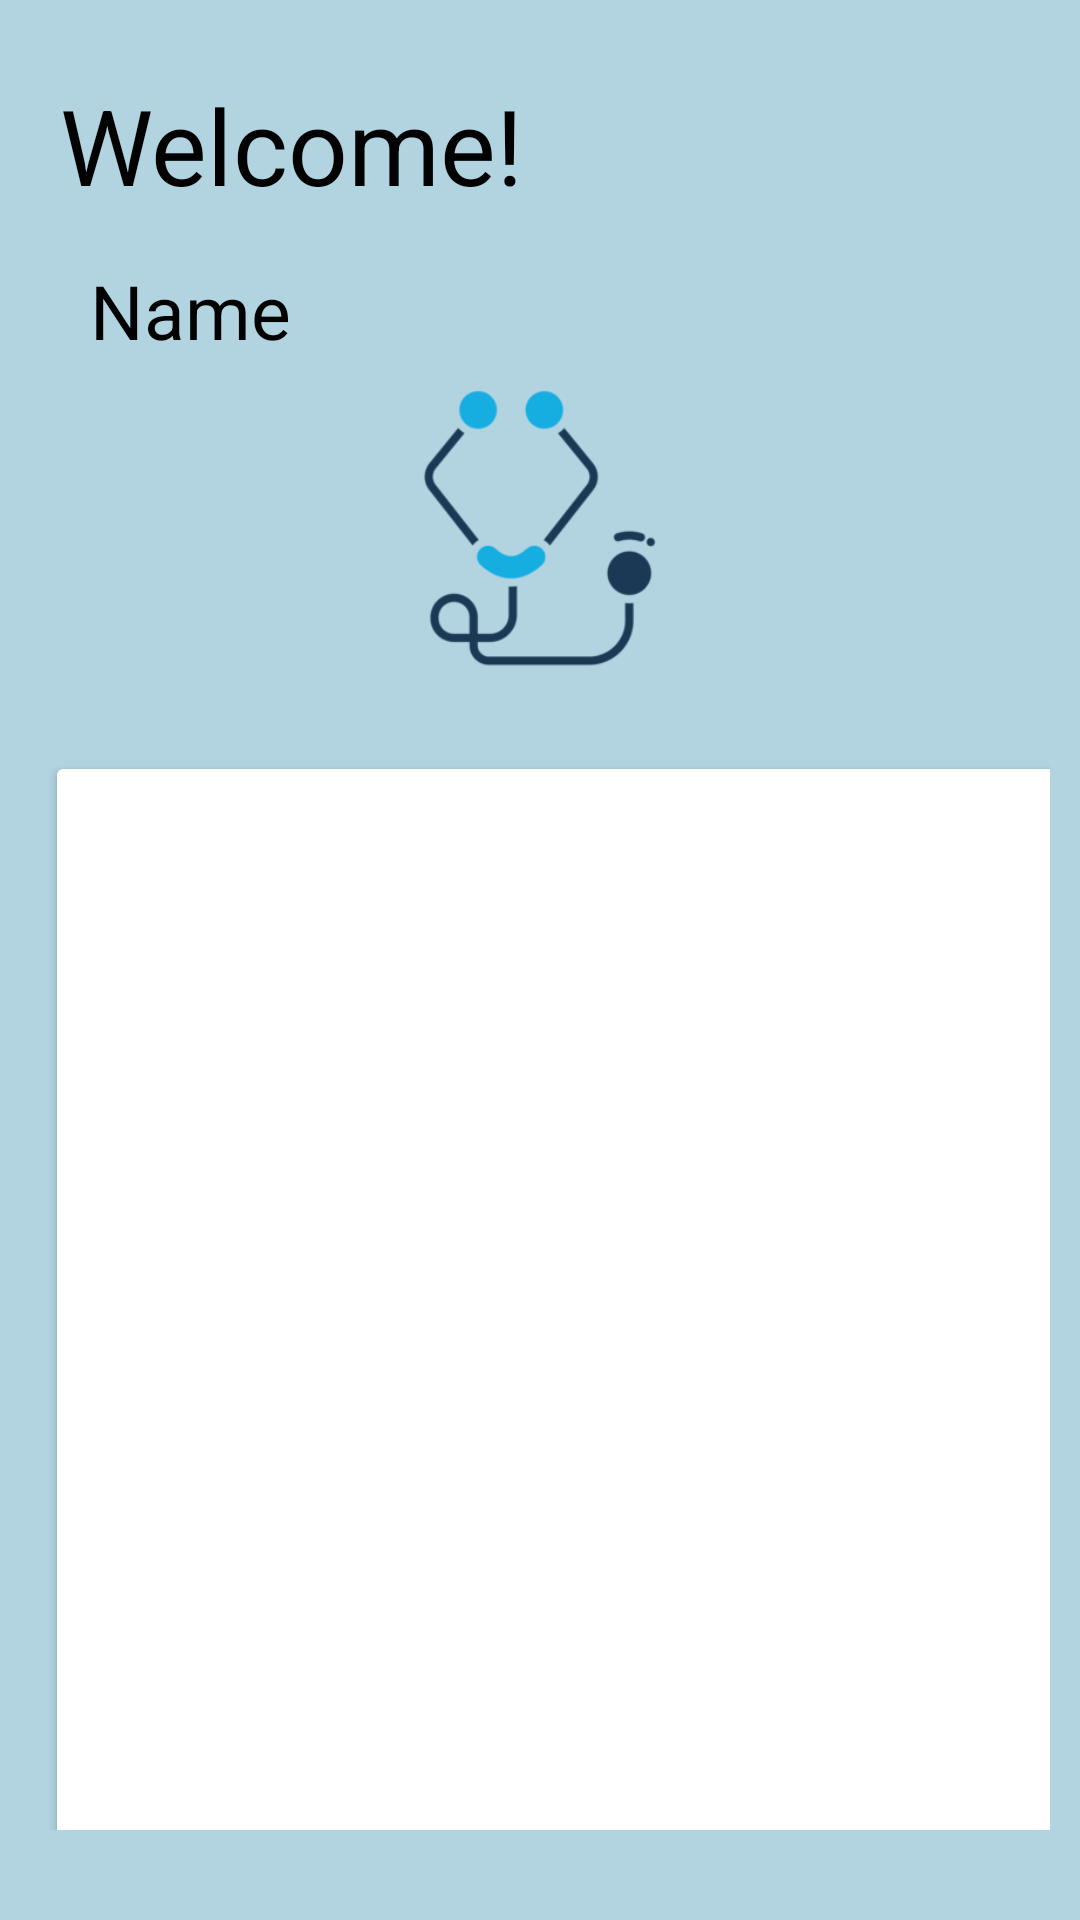

Where to tap for icons on this 1080x1920 app screen, as point (x, y):
ste: point (539, 528)
